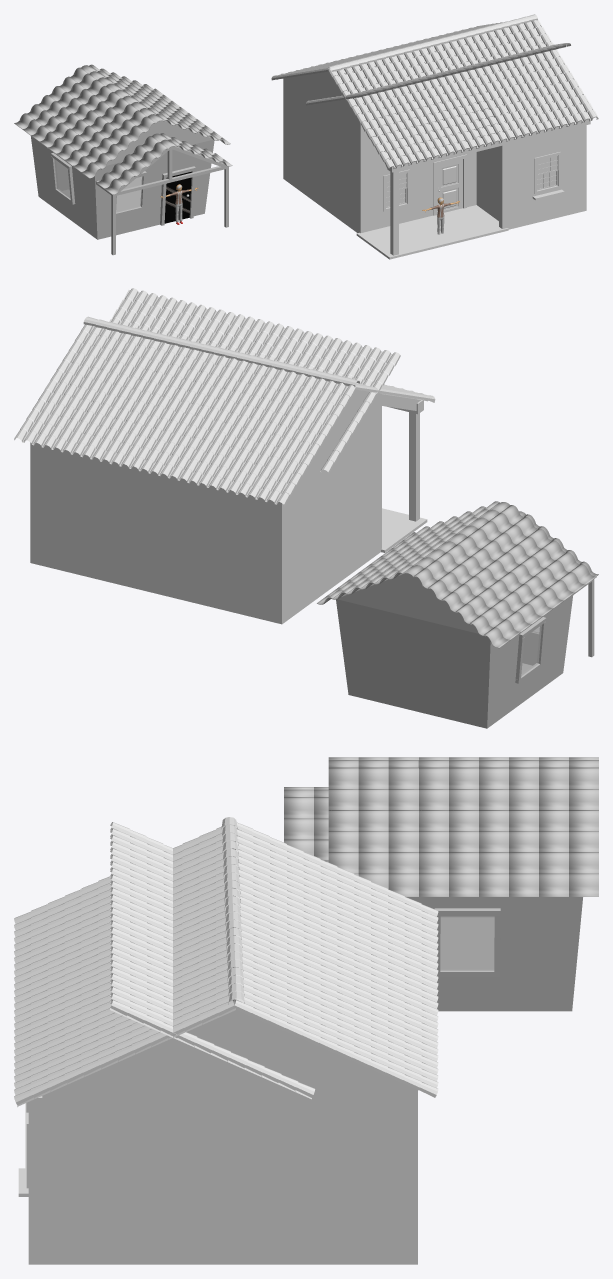
The model's file is model_casa_V1.fbx.
3 views of the same model, one above another, from view 1: azimuth 30°, elevation 25°; view 2: azimuth 150°, elevation 25°; view 3: azimuth 270°, elevation 25° (orthographic). The views are drawn at different scales.
Parts seen in each view (by area): view 1: ANtigaa, V2, telhado_01, telhado_01.001, varanda, PELARES, telhado_beiral, Porta, telhado_CIMA.001, janela, janela.001, telhado_beiral.001 (+3 smaller); view 2: V2, ANtigaa, telhado_01, telhado_01.001, telhado_CIMA.001, PELARES, varanda, telhado_CIMA; view 3: V2, telhado_01, ANtigaa, telhado_01.001, telhado_beiral, telhado_CIMA.001, telhado_beiral.001.
Boxes of the visible parts, x1,y1,x2,y2 form: ANtigaa: (14,64,232,255); V2: (283,28,586,233); telhado_01: (271,20,592,161); telhado_01.001: (306,19,593,160); varanda: (356,205,508,259); PELARES: (361,113,590,255); telhado_beiral: (384,109,597,170); Porta: (433,154,466,215); telhado_CIMA.001: (328,14,537,70); janela: (532,152,564,200); janela.001: (383,169,409,211); telhado_beiral.001: (385,110,598,168); V2: (30,332,381,624); ANtigaa: (317,501,598,728); telhado_01: (14,324,429,505); telhado_01.001: (109,288,428,473); telhado_CIMA.001: (84,316,359,383); PELARES: (381,393,423,521); varanda: (381,508,427,552); telhado_CIMA: (83,322,358,386); V2: (28,833,417,1264); telhado_01: (31,822,438,1097); ANtigaa: (284,757,598,1011); telhado_01.001: (31,822,315,1099); telhado_beiral: (14,911,33,1104); telhado_CIMA.001: (221,822,244,1003); telhado_beiral.001: (14,915,33,1107).
Size of the model in its own units: 34.96 by 12.04 by 23.31.
